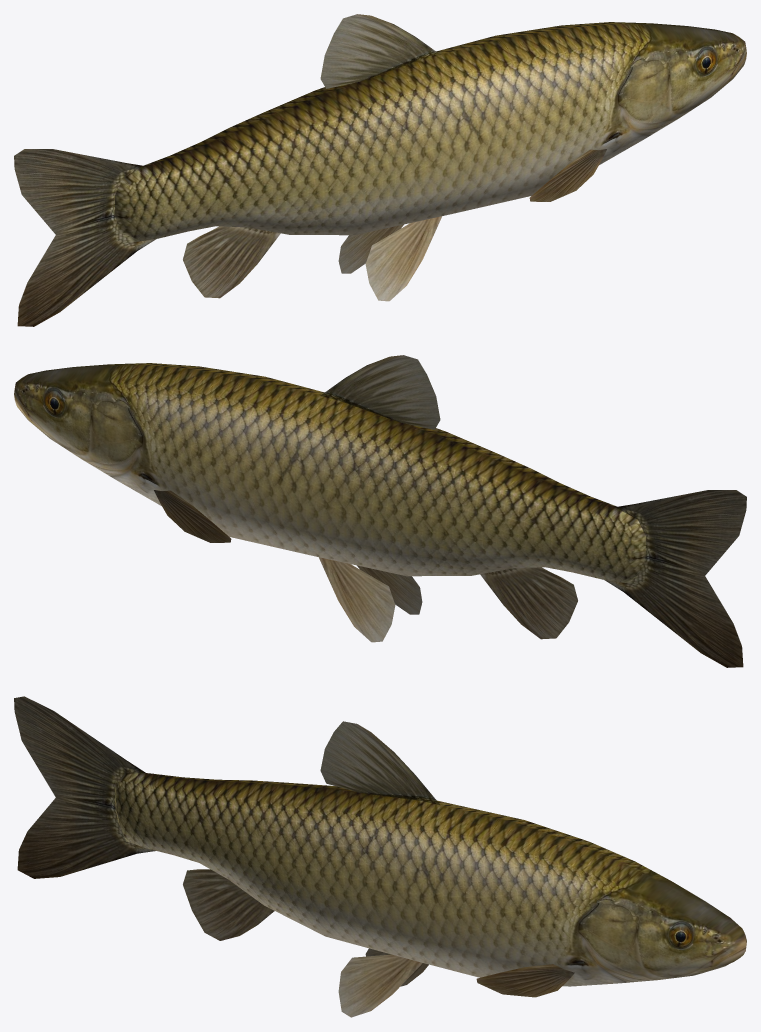
The model's file is GrassCarp.glb.
3 renders of one model, top to bottom at view 1: azimuth 30°, elevation 25°; view 2: azimuth 150°, elevation 25°; view 3: azimuth 330°, elevation 25°, orthographic.
Visible parts, largest first — view 1: GrassCarp; view 2: GrassCarp; view 3: GrassCarp.
Boxes of the visible parts, x1,y1,x2,y2 form: GrassCarp: (14, 14, 746, 326); GrassCarp: (14, 355, 746, 667); GrassCarp: (14, 696, 746, 1017).
Bounding box in the file's own units: 2 × 0.7219 × 0.2512.
Materials: 1 (1 with a texture image).
